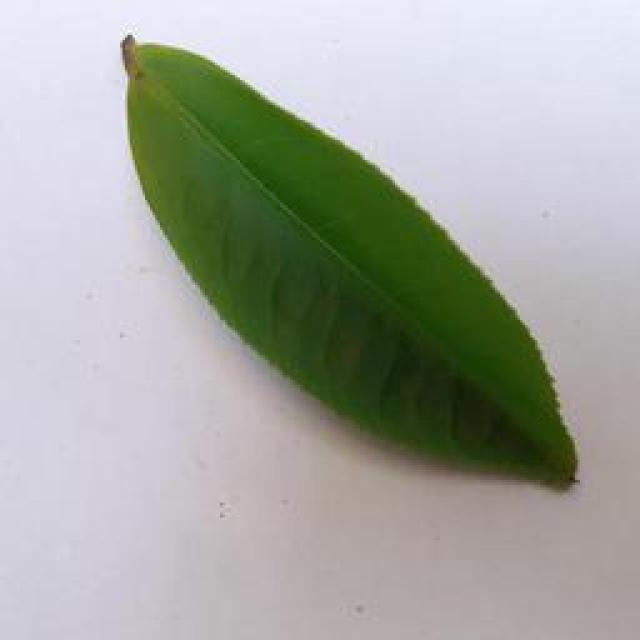Healthy: (104, 14, 576, 490)
